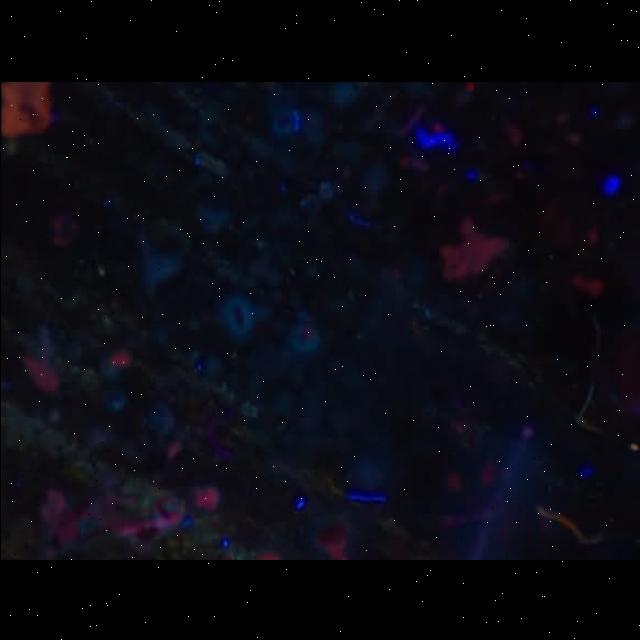Fragment: (0, 81, 51, 136)
